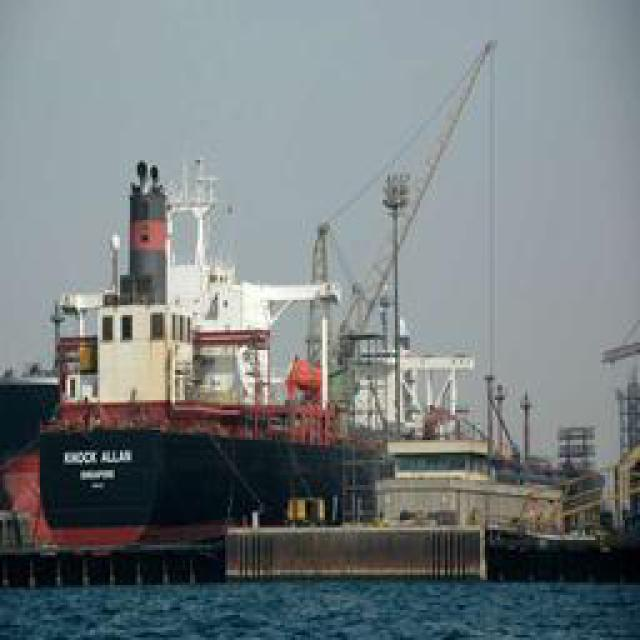Ship: (27, 22, 570, 570)
